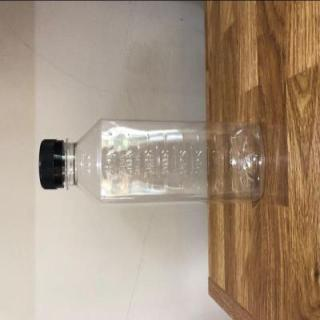Anorganik: (28, 105, 280, 213)
